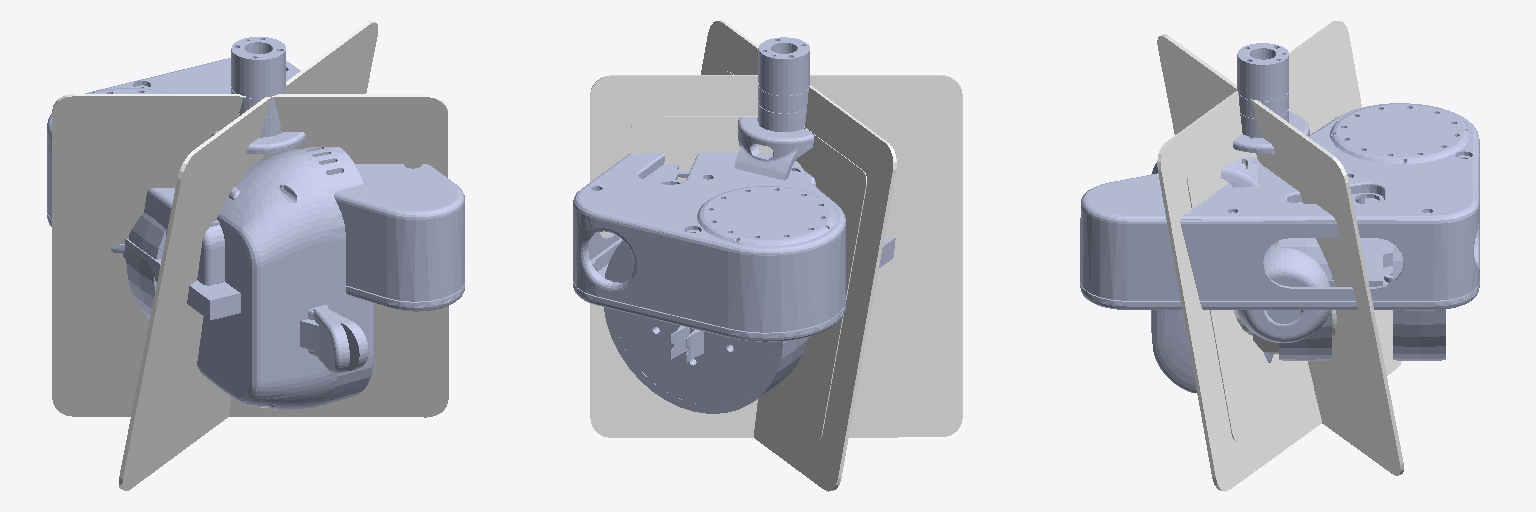
--- Render facts (derived) ---
3 views of the same robot in one strip: view 1: azimuth 30°, elevation 25°; view 2: azimuth 150°, elevation 25°; view 3: azimuth 270°, elevation 25° (orthographic).
Model stretch with 52 links and 51 joints (7 revolute, 2 continuous, 5 prismatic, 37 fixed), rooted at base_link, posed all joints at 0.
Visible links, largest first — view 1: link_aruco_fingertip_right, link_head_tilt, link_aruco_fingertip_left, link_head, link_head_pan, link_right_wheel, link_wrist_yaw_bottom, link_ground, link_gripper_finger_right, link_gripper_finger_left; view 2: link_aruco_fingertip_left, link_head, link_aruco_fingertip_right, link_left_wheel, link_head_pan; view 3: link_head, link_aruco_fingertip_right, link_aruco_fingertip_left, link_head_pan, link_head_nav_cam, link_head_tilt, link_left_wheel, link_right_wheel, link_ground, link_wrist_pitch.
Boxes of the visible links, x1,y1,x2,y2 form: link_aruco_fingertip_right: (52, 94, 448, 417); link_head_tilt: (197, 147, 374, 409); link_aruco_fingertip_left: (119, 21, 377, 490); link_head: (47, 58, 464, 311); link_head_pan: (211, 37, 305, 153); link_right_wheel: (126, 187, 175, 318); link_wrist_yaw_bottom: (144, 187, 239, 285); link_ground: (123, 239, 240, 319); link_gripper_finger_right: (314, 305, 349, 373); link_gripper_finger_left: (300, 307, 368, 370); link_aruco_fingertip_left: (590, 75, 962, 437); link_head: (573, 153, 845, 341); link_aruco_fingertip_right: (701, 20, 896, 491); link_left_wheel: (604, 241, 807, 413); link_head_pan: (734, 37, 813, 180); link_head: (1080, 103, 1479, 309); link_aruco_fingertip_right: (1157, 21, 1401, 491); link_aruco_fingertip_left: (1157, 34, 1403, 475); link_head_pan: (1233, 43, 1314, 154); link_head_nav_cam: (1237, 245, 1330, 342); link_head_tilt: (1151, 157, 1273, 392); link_left_wheel: (1393, 212, 1445, 360); link_right_wheel: (1279, 238, 1331, 360); link_ground: (1328, 198, 1382, 286); link_wrist_pitch: (1234, 241, 1336, 353).
Size in the robot's own frame: 173 by 193 by 196 metres.
Meshes: 37 distinct files referenced, 33 mesh visuals loaded (33 OBJ); not drawn: 4 (reference not matched to a file when rendering).

The robot description file, URDF, robot "stretch":
<?xml version="1.0" ?>
<!-- =================================================================================== -->
<!-- |    This document was autogenerated by xacro from ./stretch_urdf/SE3/xacro/stretch_description_SE3_eoa_wrist_dw3_tool_sg3.xacro | -->
<!-- |    EDITING THIS FILE BY HAND IS NOT RECOMMENDED                                 | -->
<!-- =================================================================================== -->
<robot name="stretch">
  <link name="base_link">
    <inertial>
      <origin rpy="0 0 0" xyz="-0.087526 -0.001626 0.081009"/>
      <mass value="17.384389"/>
      <inertia ixx="0.160002" ixy="0.006758" ixz="0.004621" iyy="0.138068" iyz="0.002208" izz="0.228992"/>
    </inertial>
    <visual>
      <origin rpy="0 0 0" xyz="0 0 0"/>
      <geometry>
        <mesh filename="./stretch_objs/base_link.obj"/>
      </geometry>
      <material name="">
        <color rgba="0.79216 0.81961 0.93333 1"/>
      </material>
    </visual>
    <collision>
      <origin rpy="0 0 0" xyz="0 0 0"/>
      <geometry>
        <mesh filename="./stretch_objs/base_link_collision.obj"/>
      </geometry>
    </collision>
  </link>
  <link name="link_ground">
    <inertial>
      <origin rpy="0 0 0" xyz="5.55111512312578E-17 3.12250225675825E-17 -0.05"/>
      <mass value="100"/>
      <inertia ixx="8.41666666666667" ixy="-7.74916461211739E-16" ixz="-4.48957242105862E-16" iyy="8.41666666666667" iyz="-4.0797041547857E-15" izz="16.6666666666667"/>
    </inertial>
    <visual>
      <origin rpy="0 0 0" xyz="0 0 0"/>
      <geometry>
        <mesh filename="./stretch_objs/link_ground_collision.obj"/>
      </geometry>
      <material name="">
        <color rgba="0.792156862745098 0.819607843137255 0.933333333333333 1"/>
      </material>
    </visual>
    <collision>
      <origin rpy="0 0 0" xyz="0 0 0"/>
      <geometry>
        <mesh filename="./stretch_objs/link_ground_collision.obj"/>
      </geometry>
    </collision>
  </link>
  <joint name="joint_ground" type="fixed">
    <origin rpy="0 0 -1.5708" xyz="-0.1 -0.3185 0"/>
    <parent link="base_link"/>
    <child link="link_ground"/>
    <axis xyz="0 0 0"/>
  </joint>
  <link name="link_right_wheel">
    <inertial>
      <origin rpy="0 0 0" xyz="0 0 0.02765"/>
      <mass value="0.20773"/>
      <inertia ixx="5.4E-05" ixy="0" ixz="0" iyy="5.4E-05" iyz="0" izz="5.1E-05"/>
    </inertial>
    <visual>
      <origin rpy="0 0 0" xyz="0 0 0"/>
      <geometry>
        <mesh filename="./stretch_objs/link_right_wheel.obj"/>
      </geometry>
      <material name="">
        <color rgba="0.79216 0.81961 0.93333 1"/>
      </material>
    </visual>
    <collision>
      <origin rpy="0 0 0" xyz="0 0 0"/>
      <geometry>
        <mesh filename="./stretch_objs/link_right_wheel_collision.obj"/>
      </geometry>
    </collision>
  </link>
  <joint name="joint_right_wheel" type="continuous">
    <origin rpy="-1.5708 1.2717E-16 4.8006E-17" xyz="0 -0.17035 0.0508"/>
    <parent link="base_link"/>
    <child link="link_right_wheel"/>
    <axis xyz="0 0 1"/>
    <dynamics damping="21.75" friction="10.48" spring_reference="0" spring_stiffness="0"/>
  </joint>
  <link name="link_left_wheel">
    <inertial>
      <origin rpy="0 0 0" xyz="0 0 -0.02765"/>
      <mass value="0.20773"/>
      <inertia ixx="5.4E-05" ixy="0" ixz="0" iyy="5.4E-05" iyz="0" izz="5.1E-05"/>
    </inertial>
    <visual>
      <origin rpy="0 0 0" xyz="0 0 0"/>
      <geometry>
        <mesh filename="./stretch_objs/link_left_wheel.obj"/>
      </geometry>
      <material name="">
        <color rgba="0.79216 0.81961 0.93333 1"/>
      </material>
    </visual>
    <collision>
      <origin rpy="0 0 0" xyz="0 0 0"/>
      <geometry>
        <mesh filename="./stretch_objs/link_left_wheel_collision.obj"/>
      </geometry>
    </collision>
  </link>
  <joint name="joint_left_wheel" type="continuous">
    <origin rpy="-1.5708 2.6317E-16 -8.2057E-19" xyz="0 0.17035 0.0508"/>
    <parent link="base_link"/>
    <child link="link_left_wheel"/>
    <axis xyz="0 0 1"/>
    <dynamics damping="21.75" friction="10.48" spring_reference="0" spring_stiffness="0"/>
  </joint>
  <link name="caster_link">
    <collision>
      <geometry>
        <sphere radius="0.032"/>
      </geometry>
      <origin rpy="0 0 0" xyz="0 0 0"/>
      <surface>
        <friction>
          <ode>
            <mu>0</mu>
            <mu2>0</mu2>
            <slip1>1.0</slip1>
            <slip2>1.0</slip2>
          </ode>
        </friction>
      </surface>
    </collision>
    <visual>
      <origin rpy="0 0 0" xyz="0 0 0"/>
      <geometry>
        <mesh filename="./stretch_objs/omni_wheel_m.obj"/>
      </geometry>
      <material name="">
        <color rgba="0.792156862745098 0.819607843137255 0.933333333333333 1"/>
      </material>
    </visual>
    <inertial>
      <mass value="0.01"/>
      <origin xyz="0 0 0"/>
      <inertia ixx="0.001" ixy="0" ixz="0" iyy="0.001" iyz="0" izz="0.001"/>
    </inertial>
  </link>
  <joint name="caster_joint" type="fixed">
    <parent link="base_link"/>
    <child link="caster_link"/>
    <origin rpy="-1.5707963267948966 0 0" xyz="-0.245 0.0 0.032"/>
    <axis xyz="0 0 1"/>
  </joint>
  <link name="link_mast">
    <inertial>
      <origin rpy="0 0 0" xyz="0.000337 0.722201 0.002652"/>
      <mass value="1.764017"/>
      <inertia ixx="0.291286" ixy="0.004149" ixz="-0.000174" iyy="0.001226" iyz="0.000354" izz="0.291429"/>
    </inertial>
    <visual>
      <origin rpy="0 0 0" xyz="0 0 0"/>
      <geometry>
        <mesh filename="./stretch_objs/link_mast.obj"/>
      </geometry>
      <material name="">
        <color rgba="0.79216 0.81961 0.93333 1"/>
      </material>
    </visual>
    <collision>
      <origin rpy="0 0 0" xyz="0 0 0"/>
      <geometry>
        <mesh filename="./stretch_objs/link_mast_collision.obj"/>
      </geometry>
    </collision>
  </link>
  <joint name="joint_mast" type="fixed">
    <origin rpy="1.5708 0 4.8006E-17" xyz="-0.067 0.135 0.0284"/>
    <parent link="base_link"/>
    <child link="link_mast"/>
    <axis xyz="0 0 0"/>
  </joint>
  <link name="link_lift">
    <inertial>
      <origin rpy="0 0 0" xyz="-0.020369 0.03438 0.02236"/>
      <mass value="1.987167"/>
      <inertia ixx="0.006518" ixy="-0.001539" ixz="0.000371" iyy="0.004464" iyz="0.000392" izz="0.008092"/>
    </inertial>
    <visual>
      <origin rpy="0 0 0" xyz="0 0 0"/>
      <geometry>
        <mesh filename="./stretch_objs/link_lift.obj"/>
      </geometry>
      <material name="">
        <color rgba="0.79216 0.81961 0.93333 1"/>
      </material>
    </visual>
    <collision>
      <origin rpy="0 0 0" xyz="0 0 0"/>
      <geometry>
        <mesh filename="./stretch_objs/link_lift_collision.obj"/>
      </geometry>
    </collision>
  </link>
  <joint name="joint_lift" type="prismatic">
    <origin rpy="-1.5708 1.5708 0" xyz="-0.037385 0.1666 0"/>
    <parent link="link_mast"/>
    <child link="link_lift"/>
    <axis xyz="0 0 1"/>
    <!-- for now: hand copied range_m: from lift: from ~/repos/stretch_fleet/stretch-re1-1001/stretch_re1_factory_params.yaml -->
    <!--<limit effort="100" lower="0.0" upper="1.095" velocity="1.0"/>-->
    <!-- copied value did not reach the top of mesh model with GUI sliders and RViz -->
    <limit effort="100" lower="0.0" upper="1.1" velocity="1.0"/>
  </joint>
  <link name="link_arm_l4">
    <inertial>
      <origin rpy="0 0 0" xyz="-0.000168 -0.000254 -0.125235"/>
      <mass value="0.235626"/>
      <inertia ixx="0.001518" ixy="-1E-06" ixz="3E-06" iyy="0.001519" iyz="3E-06" izz="0.000176"/>
    </inertial>
    <visual>
      <origin rpy="0 0 0" xyz="0 0 0"/>
      <geometry>
        <mesh filename="./stretch_objs/link_arm_l4.obj"/>
      </geometry>
      <material name="">
        <color rgba="0.79216 0.81961 0.93333 1"/>
      </material>
    </visual>
    <collision>
      <origin rpy="0 0 0" xyz="0 0 0"/>
      <geometry>
        <mesh filename="./stretch_objs/link_arm_l4_collision.obj"/>
      </geometry>
    </collision>
  </link>
  <joint name="joint_arm_l4" type="fixed">
    <origin rpy="1.5708 2.4721E-15 -1.5708" xyz="-0.2547 0 0"/>
    <parent link="link_lift"/>
    <child link="link_arm_l4"/>
    <axis xyz="0 0 0"/>
  </joint>
  <link name="link_arm_l3">
    <inertial>
      <origin rpy="0 0 0" xyz="-1E-06 -0.000146 -0.11908"/>
      <mass value="0.146817"/>
      <inertia ixx="0.001081" ixy="0" ixz="0" iyy="0.001081" iyz="-1E-06" izz="7.7E-05"/>
    </inertial>
    <visual>
      <origin rpy="0 0 0" xyz="0 0 0"/>
      <geometry>
        <mesh filename="./stretch_objs/link_arm_l3.obj"/>
      </geometry>
      <material name="">
        <color rgba="0.792156862745098 0.819607843137255 0.933333333333333 1"/>
      </material>
    </visual>
    <collision>
      <origin rpy="0 0 0" xyz="0 0 0"/>
      <geometry>
        <mesh filename="./stretch_objs/link_arm_l3_collision.obj"/>
      </geometry>
    </collision>
  </link>
  <joint name="joint_arm_l3" type="prismatic">
    <origin rpy="7.68831233799385E-30 2.36716479416092E-30 2.29652732251143E-17" xyz="0 0 0.013"/>
    <parent link="link_arm_l4"/>
    <child link="link_arm_l3"/>
    <axis xyz="0 0 1"/>
    <!-- 0.13 = 0.52/4-->
    <limit effort="100" lower="0.0" upper="0.13" velocity="1.0"/>
  </joint>
  <link name="link_arm_l2">
    <inertial>
      <origin rpy="0 0 0" xyz="0 -7.1E-05 -0.115635"/>
      <mass value="0.130565"/>
      <inertia ixx="0.000943" ixy="0" ixz="0" iyy="0.000943" iyz="0" izz="5.7E-05"/>
    </inertial>
    <visual>
      <origin rpy="0 0 0" xyz="0 0 0"/>
      <geometry>
        <mesh filename="./stretch_objs/link_arm_l2.obj"/>
      </geometry>
      <material name="">
        <color rgba="0.792156862745098 0.819607843137255 0.933333333333333 1"/>
      </material>
    </visual>
    <collision>
      <origin rpy="0 0 0" xyz="0 0 0"/>
      <geometry>
        <mesh filename="./stretch_objs/link_arm_l2_collision.obj"/>
      </geometry>
    </collision>
  </link>
  <joint name="joint_arm_l2" type="prismatic">
    <origin rpy="0 1.57655765344625E-30 -1.66533453693773E-16" xyz="0 0 0.013"/>
    <parent link="link_arm_l3"/>
    <child link="link_arm_l2"/>
    <axis xyz="0 0 1"/>
    <!-- 0.13 = 0.52/4-->
    <limit effort="100" lower="0.0" upper="0.13" velocity="1.0"/>
  </joint>
  <link name="link_arm_l1">
    <inertial>
      <origin rpy="0 0 0" xyz="-1E-06 -0.000121 -0.113457"/>
      <mass value="0.113658"/>
      <inertia ixx="0.0008" ixy="0" ixz="0" iyy="0.0008" iyz="0" izz="4E-05"/>
    </inertial>
    <visual>
      <origin rpy="0 0 0" xyz="0 0 0"/>
      <geometry>
        <mesh filename="./stretch_objs/link_arm_l1.obj"/>
      </geometry>
      <material name="">
        <color rgba="0.79216 0.81961 0.93333 1"/>
      </material>
    </visual>
    <collision>
      <origin rpy="0 0 0" xyz="0 0 0"/>
      <geometry>
        <mesh filename="./stretch_objs/link_arm_l1_collision.obj"/>
      </geometry>
    </collision>
  </link>
  <joint name="joint_arm_l1" type="prismatic">
    <origin rpy="-7.63746778746202E-30 -7.88860905221012E-31 1.11022302462516E-16" xyz="0 0 0.0129999999999981"/>
    <parent link="link_arm_l2"/>
    <child link="link_arm_l1"/>
    <axis xyz="0 0 1"/>
    <!-- 0.13 = 0.52/4-->
    <limit effort="100" lower="0.0" upper="0.13" velocity="1.0"/>
  </joint>
  <link name="link_arm_l0">
    <inertial>
      <origin rpy="0 0 0" xyz="0.033681 -0.000847 -0.031723"/>
      <mass value="0.427734"/>
      <inertia ixx="0.001689" ixy="-2.8E-05" ixz="0.000483" iyy="0.002107" iyz="-1.1E-05" izz="0.000571"/>
    </inertial>
    <visual>
      <origin rpy="0 0 0" xyz="0 0 0"/>
      <geometry>
        <mesh filename="./stretch_objs/link_arm_l0.obj"/>
      </geometry>
      <material name="">
        <color rgba="0.792156862745098 0.819607843137255 0.933333333333333 1"/>
      </material>
    </visual>
    <collision>
      <origin rpy="0 0 0" xyz="0 0 0"/>
      <geometry>
        <mesh filename="./stretch_objs/link_arm_l0_collision.obj"/>
      </geometry>
    </collision>
  </link>
  <joint name="joint_arm_l0" type="prismatic">
    <origin rpy="7.63746778746202E-30 -3.80121128864402E-15 2.62707547767438E-15" xyz="0 0 -0.0137499999991968"/>
    <parent link="link_arm_l1"/>
    <child link="link_arm_l0"/>
    <axis xyz="0 0 1"/>
    <!-- 0.13 = 0.52/4-->
    <limit effort="100" lower="0.0" upper="0.13" velocity="1.0"/>
  </joint>
  <link name="link_wrist_yaw">
    <inertial>
      <origin rpy="0 0 0" xyz="0 -3.9E-05 -0.016495"/>
      <mass value="0.054422"/>
      <inertia ixx="9E-06" ixy="0" ixz="0" iyy="9E-06" iyz="0" izz="7E-06"/>
    </inertial>
    <visual>
      <origin rpy="0 0 0" xyz="0 0 0"/>
      <geometry>
        <mesh filename="./stretch_objs/link_wrist_yaw.obj"/>
      </geometry>
      <material name="">
        <color rgba="0.898039215686275 0.917647058823529 0.929411764705882 1"/>
      </material>
    </visual>
    <collision>
      <origin rpy="0 0 0" xyz="0 0 0"/>
      <geometry>
        <mesh filename="./stretch_objs/link_wrist_yaw_collision.obj"/>
      </geometry>
    </collision>
  </link>
  <joint name="joint_wrist_yaw" type="revolute">
    <origin rpy="-1.5707963267949 0 3.14159265358978" xyz="0.0830000000000654 -0.0307500000000129 0"/>
    <parent link="link_arm_l0"/>
    <child link="link_wrist_yaw"/>
    <axis xyz="0 0 -1"/>
    <!--
      stowed to front ~225 deg: 3.15159 x 1.25 = 3.9395
      using 4.0
      stowed to back ~100 deg:  100 / 180 x 3.14159 = 1.7453
      using -1.75
    -->
    <limit effort="100" lower="-1.75" upper="4.0" velocity="1.0"/>
  </joint>
  <link name="link_head">
    <inertial>
      <origin rpy="0 0 0" xyz="0.047462 0.04451 0.016376"/>
      <mass value="0.681871"/>
      <inertia ixx="0.001023" ixy="0.000641" ixz="6.6E-05" iyy="0.002097" iyz="6.5E-05" izz="0.00281"/>
    </inertial>
    <visual>
      <origin rpy="0 0 0" xyz="0 0 0"/>
      <geometry>
        <mesh filename="./stretch_objs/link_head.obj"/>
      </geometry>
      <material name="">
        <color rgba="0.792156862745098 0.819607843137255 0.933333333333333 1"/>
      </material>
    </visual>
    <collision>
      <origin rpy="0 0 0" xyz="0 0 0"/>
      <geometry>
        <mesh filename="./stretch_objs/link_head_collision.obj"/>
      </geometry>
    </collision>
  </link>
  <joint name="joint_head" type="fixed">
    <origin rpy="1.5707963267949 -1.5707963267949 3.1416" xyz="0 1.33 0"/>
    <parent link="link_mast"/>
    <child link="link_head"/>
    <axis xyz="0 0 0"/>
  </joint>
  <link name="link_head_pan">
    <inertial>
      <origin rpy="0 0 0" xyz="-0.000422 0.013934 -0.0161"/>
      <mass value="0.062462"/>
      <inertia ixx="4.1E-05" ixy="-1E-06" ixz="1E-06" iyy="3.2E-05" iyz="-1.5E-05" izz="2.2E-05"/>
    </inertial>
    <visual>
      <origin rpy="0 0 0" xyz="0 0 0"/>
      <geometry>
        <mesh filename="./stretch_objs/link_head_pan.obj"/>
      </geometry>
      <material name="">
        <color rgba="0.792156862745098 0.819607843137255 0.933333333333333 1"/>
      </material>
    </visual>
    <collision>
      <origin rpy="0 0 0" xyz="0 0 0"/>
      <geometry>
        <mesh filename="./stretch_objs/link_head_pan_collision.obj"/>
      </geometry>
    </collision>
  </link>
  <joint name="joint_head_pan" type="revolute">
    <origin rpy="0 0 1.5707963267949" xyz="0.135 0.0731000000000001 -0.00319621125547975"/>
    <parent link="link_head"/>
    <child link="link_head_pan"/>
    <axis xyz="0 0 1"/>
    <!-- unconstrained range for now -->
    <limit effort="100" lower="-3.9" upper="1.5" velocity="1.0"/>
  </joint>
  <link name="link_head_tilt">
    <inertial>
      <origin rpy="0 0 0" xyz="0.003907 -0.02418 0.030154"/>
      <mass value="0.283548"/>
      <inertia ixx="0.000316" ixy="-6E-06" ixz="1E-06" iyy="0.000143" iyz="-2E-06" izz="0.00031"/>
    </inertial>
    <visual>
      <origin rpy="0 0 0" xyz="0 0 0"/>
      <geometry>
        <mesh filename="./stretch_objs/link_head_tilt.obj"/>
      </geometry>
      <material name="">
        <color rgba="0.792156862745098 0.819607843137255 0.933333333333333 1"/>
      </material>
    </visual>
    <collision>
      <origin rpy="0 0 0" xyz="0 0 0"/>
      <geometry>
        <mesh filename="./stretch_objs/link_head_tilt_collision.obj"/>
      </geometry>
    </collision>
  </link>
  <joint name="joint_head_tilt" type="revolute">
    <origin rpy="1.5707963267949 3.36459255518345E-15 -8.42914893687103E-17" xyz="-0.00130000001785262 0.0277624999926072 -0.0533107920897029"/>
    <parent link="link_head_pan"/>
    <child link="link_head_tilt"/>
    <axis xyz="0 0 1"/>
    <!-- unconstrained range for now -->
    <limit effort="100" lower="-1.53" upper="0.79" velocity="1.0"/>
  </joint>
  <link name="link_aruco_right_base">
    <inertial>
      <origin rpy="0 0 0" xyz="1.3878E-17 0 -0.000125"/>
      <mass value="3.59999999990368E-06"/>
      <inertia ixx="0" ixy="0" ixz="0" iyy="0" iyz="0" izz="0"/>
    </inertial>
    <visual>
      <origin rpy="0 0 0" xyz="0 0 0"/>
      <geometry>
        <mesh filename="./stretch_objs/link_aruco_right_base.obj"/>
      </geometry>
      <material name="">
        <color rgba="0.792156862745098 0.819607843137255 0.933333333333333 1"/>
      </material>
    </visual>
    <collision>
      <origin rpy="0 0 0" xyz="0 0 0"/>
      <geometry>
        <mesh filename="./stretch_objs/link_aruco_right_base.obj"/>
      </geometry>
    </collision>
  </link>
  <joint name="joint_aruco_right_base" type="fixed">
    <origin rpy="0 0 -1.5707963267949" xyz="-0.0015028 -0.1304972 0.1597482"/>
    <parent link="base_link"/>
    <child link="link_aruco_right_base"/>
    <axis xyz="0 0 0"/>
  </joint>
  <link name="link_aruco_left_base">
    <inertial>
      <origin rpy="0 0 0" xyz="2.7756E-17 0 -0.000125"/>
      <mass value="3.59999999990368E-06"/>
      <inertia ixx="0" ixy="0" ixz="0" iyy="0" iyz="0" izz="0"/>
    </inertial>
    <visual>
      <origin rpy="0 0 0" xyz="0 0 0"/>
      <geometry>
        <mesh filename="./stretch_objs/link_aruco_left_base.obj"/>
      </geometry>
      <material name="">
        <color rgba="0.792156862745098 0.819607843137255 0.933333333333333 1"/>
      </material>
    </visual>
    <collision>
      <origin rpy="0 0 0" xyz="0 0 0"/>
      <geometry>
        <mesh filename="./stretch_objs/link_aruco_left_base.obj"/>
      </geometry>
    </collision>
  </link>
  <joint name="joint_aruco_left_base" type="fixed">
    <origin rpy="0 0 -1.5707963267949" xyz="-0.00500000000000014 0.1304972 0.1597482"/>
    <parent link="base_link"/>
    <child link="link_aruco_left_base"/>
    <axis xyz="0 0 0"/>
  </joint>
  <link name="link_aruco_shoulder">
    <inertial>
      <origin rpy="0 0 0" xyz="-2.77555756156289E-17 2.56739074444567E-16 -0.000125000000000042"/>
      <mass value="0"/>
      <inertia ixx="0" ixy="0" ixz="0" iyy="0" iyz="0" izz="0"/>
    </inertial>
    <visual>
      <origin rpy="0 0 0" xyz="0 0 0"/>
      <geometry>
        <mesh filename="./stretch_objs/link_aruco_shoulder.obj"/>
      </geometry>
      <material name="">
        <color rgba="0.792156862745098 0.819607843137255 0.933333333333333 1"/>
      </material>
    </visual>
    <collision>
      <origin rpy="0 0 0" xyz="0 0 0"/>
      <geometry>
        <mesh filename="./stretch_objs/link_aruco_shoulder.obj"/>
      </geometry>
    </collision>
  </link>
  <joint name="joint_aruco_shoulder" type="fixed">
    <origin rpy="-1.53998860117704E-29 3.55962409571165E-15 0.0" xyz="-0.0133768876375287 0.0558540528812078 0.0861368272417975"/>
    <parent link="link_lift"/>
    <child link="link_aruco_shoulder"/>
    <axis xyz="0 0 0"/>
  </joint>
  <link name="link_aruco_top_wrist">
    <inertial>
      <origin rpy="0 0 0" xyz="-1.3531E-15 -3.4972E-15 -0.000125"/>
      <mass value="0"/>
      <inertia ixx="0" ixy="0" ixz="0" iyy="0" iyz="0" izz="0"/>
    </inertial>
    <visual>
      <origin rpy="0 0 0" xyz="0 0 0"/>
      <geometry>
        <mesh filename="./stretch_objs/link_aruco_top_wrist.obj"/>
      </geometry>
      <material name="">
        <color rgba="0.792156862745098 0.819607843137255 0.933333333333333 1"/>
      </material>
    </visual>
    <collision>
      <origin rpy="0 0 0" xyz="0 0 0"/>
      <geometry>
        <mesh filename="./stretch_objs/link_aruco_top_wrist.obj"/>
      </geometry>
    </collision>
  </link>
  <joint name="joint_aruco_top_wrist" type="fixed">
    <origin rpy="1.5707963267949 -8.03728587323464E-15 3.14159265358979" xyz="0.0472500000000019 0.0292850000000015 0"/>
    <parent link="link_arm_l0"/>
    <child link="link_aruco_top_wrist"/>
    <axis xyz="0 0 0"/>
  </joint>
  <link name="link_aruco_inner_wrist">
    <inertial>
      <origin rpy="0 0 0" xyz="8.32667268468867E-17 1.77635683940025E-15 -0.000125000000000264"/>
      <mass value="0"/>
      <inertia ixx="0" ixy="0" ixz="0" iyy="0" iyz="0" izz="0"/>
    </inertial>
    <visual>
      <origin rpy="0 0 0" xyz="0 0 0"/>
      <geometry>
        <mesh filename="./stretch_objs/link_aruco_inner_wrist.obj"/>
      </geometry>
      <material name="">
        <color rgba="0.792156862745098 0.819607843137255 0.933333333333333 1"/>
      </material>
    </visual>
    <collision>
      <origin rpy="0 0 0" xyz="0 0 0"/>
      <geometry>
        <mesh filename="./stretch_objs/link_aruco_inner_wrist.obj"/>
      </geometry>
    </collision>
  </link>
  <joint name="joint_aruco_inner_wrist" type="fixed">
    <origin rpy="3.14159265358979 4.23377442363088E-14 3.14159265358979" xyz="0.0472499999999947 -0.0119000000000034 -0.0272499999991938"/>
    <parent link="link_arm_l0"/>
    <child link="link_aruco_inner_wrist"/>
    <axis xyz="0 0 0"/>
  </joint>
  <material name="aluminum">
    <color rgba="0.5 0.5 0.5 1"/>
  </material>
  <material name="plastic">
    <color rgba="0.1 0.1 0.1 1"/>
  </material>
  <!-- camera body, with origin at bottom screw mount -->
  <joint name="camera_joint" type="fixed">
    <origin rpy="0.0 0.0 0.0" xyz="0.03 -0.0122 0.0182"/>
    <parent link="link_head_tilt"/>
    <child link="camera_bottom_screw_frame"/>
  </joint>
  <link name="camera_bottom_screw_frame"/>
  <joint name="camera_link_joint" type="fixed">
    <origin rpy="0 0 0" xyz="0.010600000000000002 0.0175 0.0125"/>
    <parent link="camera_bottom_screw_frame"/>
    <child link="camera_link"/>
  </joint>
  <link name="camera_link">
    <visual>
      <!-- the mesh origin is at front plate in between the two infrared camera axes -->
      <origin rpy="1.5707963267948966 0 1.5707963267948966" xyz="0.0043 -0.0175 0"/>
      <geometry>
        <mesh filename="./stretch_objs/d435.obj"/>
      </geometry>
    </visual>
    <collision>
      <origin rpy="0 0 0" xyz="0 -0.0175 0"/>
      <geometry>
        <box size="0.02505 0.09 0.025"/>
      </geometry>
    </collision>
    <inertial>
      <!-- The following are not reliable values, and should not be used for modeling -->
      <mass value="0.072"/>
      <origin xyz="0 0 0"/>
      <inertia ixx="0.003881243" ixy="0.0" ixz="0.0" iyy="0.000498940" iyz="0.0" izz="0.003879257"/>
    </inertial>
  </link>
  <!-- camera depth joints and links -->
  <joint name="camera_depth_joint" type="fixed">
    <origin rpy="0 0 0" xyz="0 0 0"/>
    <parent link="camera_link"/>
    <child link="camera_depth_frame"/>
  </joint>
  <link name="camera_depth_frame"/>
  <joint name="camera_depth_optical_joint" type="fixed">
    <origin rpy="-1.5707963267948966 0 -1.5707963267948966" xyz="0 0 0"/>
    <parent link="camera_depth_frame"/>
    <child link="camera_depth_optical_frame"/>
  </joint>
  <link name="camera_depth_optical_frame"/>
  <!-- camera left IR joints and links -->
  <joint name="camera_infra1_joint" type="fixed">
    <origin rpy="0 0 0" xyz="0 0.0 0"/>
    <parent link="camera_link"/>
    <child link="camera_infra1_frame"/>
  </joint>
  <link name="camera_infra1_frame"/>
  <joint name="camera_infra1_optical_joint" type="fixed">
    <origin rpy="-1.5707963267948966 0 -1.5707963267948966" xyz="0 0 0"/>
    <parent link="camera_infra1_frame"/>
    <child link="camera_infra1_optical_frame"/>
  </joint>
  <link name="camera_infra1_optical_frame"/>
  <!-- camera right IR joints and links -->
  <joint name="camera_infra2_joint" type="fixed">
    <origin rpy="0 0 0" xyz="0 -0.05 0"/>
    <parent link="camera_link"/>
    <child link="camera_infra2_frame"/>
  </joint>
  <link name="camera_infra2_frame"/>
  <joint name="camera_infra2_optical_joint" type="fixed">
    <origin rpy="-1.5707963267948966 0 -1.5707963267948966" xyz="0 0 0"/>
    <parent link="camera_infra2_frame"/>
    <child link="camera_infra2_optical_frame"/>
  </joint>
  <link name="camera_infra2_optical_frame"/>
  <!-- camera color joints and links -->
  <joint name="camera_color_joint" type="fixed">
    <origin rpy="0 0 0" xyz="0 0.015 0"/>
    <parent link="camera_link"/>
    <child link="camera_color_frame"/>
  </joint>
  <link name="camera_color_frame"/>
  <joint name="camera_color_optical_joint" type="fixed">
    <origin rpy="-1.5707963267948966 0 -1.5707963267948966" xyz="0 0 0"/>
    <parent link="camera_color_frame"/>
    <child link="camera_color_optical_frame"/>
  </joint>
  <link name="camera_color_optical_frame"/>
  <link name="camera_accel_frame"/>
  <link name="camera_accel_optical_frame"/>
  <link name="camera_gyro_frame"/>
  <link name="camera_gyro_optical_frame"/>
  <joint name="camera_accel_joint" type="fixed">
    <origin rpy="0 0 0" xyz="-0.01174 -0.00552 0.0051"/>
    <parent link="camera_link"/>
    <child link="camera_accel_frame"/>
  </joint>
  <joint name="camera_accel_optical_joint" type="fixed">
    <origin rpy="-1.5707963267948966 0 -1.5707963267948966" xyz="0 0 0"/>
    <parent link="camera_accel_frame"/>
    <child link="camera_accel_optical_frame"/>
  </joint>
  <joint name="camera_gyro_joint" type="fixed">
    <origin rpy="0 0 0" xyz="-0.01174 -0.00552 0.0051"/>
    <parent link="camera_link"/>
    <child link="camera_gyro_frame"/>
  </joint>
  <joint name="camera_gyro_optical_joint" type="fixed">
    <origin rpy="-1.5707963267948966 0 -1.5707963267948966" xyz="0 0 0"/>
    <parent link="camera_gyro_frame"/>
    <child link="camera_gyro_optical_frame"/>
  </joint>
  <link name="laser">
    <inertial>
      <origin rpy="0 0 0" xyz="0.011979 -0.000523 -0.01998"/>
      <mass value="0.216007"/>
      <inertia ixx="9.5E-05" ixy="2E-06" ixz="-1.9E-05" iyy="0.000184" iyz="-1E-06" izz="0.000216"/>
    </inertial>
    <visual>
      <origin rpy="0 0 0" xyz="0 0 0"/>
      <geometry>
        <mesh filename="./stretch_objs/laser.obj"/>
      </geometry>
      <material name="">
        <color rgba="0.250980392156863 0.250980392156863 0.250980392156863 1"/>
      </material>
    </visual>
    <collision>
      <origin rpy="0 0 0" xyz="0 0 0"/>
      <geometry>
        <mesh filename="./stretch_objs/laser_collision.obj"/>
      </geometry>
    </collision>
  </link>
  <joint name="joint_laser" type="fixed">
    <origin rpy="0 0 3.1416" xyz="0.004 0 0.1664"/>
    <parent link="base_link"/>
    <child link="laser"/>
    <axis xyz="0 0 0"/>
  </joint>
  <link name="base_imu">
    <inertial>
      <origin rpy="0 0 0" xyz="0.00300349280517617 0.00149777182047641 -0.00193103885249443"/>
      <mass value="0.00092"/>
      <inertia ixx="3E-08" ixy="0" ixz="0" iyy="5E-08" iyz="0" izz="8E-08"/>
    </inertial>
    <visual>
      <origin rpy="0 0 0" xyz="0 0 0"/>
      <geometry>
        <mesh filename="./stretch_objs/base_imu.obj"/>
      </geometry>
      <material name="">
        <color rgba="0 0.772549019607843 0.207843137254902 1"/>
      </material>
    </visual>
    <collision>
      <origin rpy="0 0 0" xyz="0 0 0"/>
      <geometry>
        <mesh filename="./stretch_objs/base_imu.obj"/>
      </geometry>
    </collision>
  </link>
  <joint name="joint_base_imu" type="fixed">
    <origin rpy="-3.1416 0 -1.5708" xyz="-0.12838 0.0031592 0.1474"/>
    <parent link="base_link"/>
    <child link="base_imu"/>
    <axis xyz="0 0 0"/>
  </joint>
  <link name="respeaker_base">
    <inertial>
      <origin rpy="0 0 0" xyz="-0.001594 -0.001282 -0.008098"/>
      <mass value="0.025175"/>
      <inertia ixx="1E-05" ixy="2E-06" ixz="1E-06" iyy="1.2E-05" iyz="0" izz="1.5E-05"/>
    </inertial>
    <visual>
      <origin rpy="0 0 0" xyz="0 0 0"/>
      <geometry>
        <mesh filename="./stretch_objs/respeaker_base.obj"/>
      </geometry>
      <material name="">
        <color rgba="0.79216 0.81961 0.93333 1"/>
      </material>
    </visual>
    <collision>
      <origin rpy="0 0 0" xyz="0 0 0"/>
      <geometry>
        <mesh filename="./stretch_objs/respeaker_base.obj"/>
      </geometry>
    </collision>
  </link>
  <joint name="joint_respeaker" type="fixed">
    <origin rpy="-1.5707963267949 -0.698131700797725 4.93295812652799E-16" xyz="0 1.37236408874452 0.00303065898329655"/>
    <parent link="link_mast"/>
    <child link="respeaker_base"/>
    <axis xyz="0 0 0"/>
  </joint>
  <link name="link_wrist_yaw_bottom">
    <inertial>
      <origin rpy="0 0 0" xyz="-0.0165399153795968 -0.0446328107020906 -0.0281087384763343"/>
      <mass value="0.144548635554334"/>
      <inertia ixx="4.56525957614798E-05" ixy="-1.08217417869179E-06" ixz="-1.44384040297111E-08" iyy="7.22875259104698E-05" iyz="3.40820143544021E-09" izz="8.76544308203217E-05"/>
    </inertial>
    <visual>
      <origin rpy="0 0 0" xyz="0 0 0"/>
      <geometry>
        <mesh filename="./stretch_objs/link_DW3_wrist_yaw_bottom.obj"/>
      </geometry>
      <material name="">
        <color rgba="0.792156862745098 0.819607843137255 0.933333333333333 1"/>
      </material>
    </visual>
    <collision>
      <origin rpy="0 0 0" xyz="0 0 0"/>
      <geometry>
        <mesh filename="./stretch_objs/link_DW3_wrist_yaw_bottom_collision.obj"/>
      </geometry>
    </collision>
  </link>
  <joint name="joint_wrist_yaw_bottom" type="fixed">
    <origin rpy="-3.14159265358979 0 -1.5707963267949" xyz="0 0 0"/>
    <parent link="link_wrist_yaw"/>
    <child link="link_wrist_yaw_bottom"/>
    <axis xyz="0 0 0"/>
  </joint>
  <link name="link_wrist_pitch">
    <inertial>
      <origin rpy="0 0 0" xyz="-0.000711479645697954 -0.0147442681465562 0.0195140764319514"/>
      <mass value="0.116590512374845"/>
      <inertia ixx="5.76204624498191E-05" ixy="-7.78647509857216E-07" ixz="-2.86646997376633E-08" iyy="3.5844353951621E-05" iyz="1.06445058968725E-06" izz="6.36355321976534E-05"/>
    </inertial>
    <visual>
      <origin rpy="0 0 0" xyz="0 0 0"/>
      <geometry>
        <mesh filename="./stretch_objs/link_DW3_wrist_pitch.obj"/>
      </geometry>
      <material name="">
        <color rgba="1 1 1 1"/>
      </material>
    </visual>
    <collision>
      <origin rpy="0 0 0" xyz="0 0 0"/>
      <geometry>
        <mesh filename="./stretch_objs/link_DW3_wrist_pitch_collision.obj"/>
      </geometry>
    </collision>
  </link>
  <joint name="joint_wrist_pitch" type="revolute">
    <origin rpy="1.5708 0 3.1416" xyz="0 -0.019455 -0.0305"/>
    <parent link="link_wrist_yaw_bottom"/>
    <child link="link_wrist_pitch"/>
    <axis xyz="0 0 -1"/>
    <limit effort="100" lower="-1.57" upper="0.56" velocity="1.0"/>
  </joint>
  <link name="link_wrist_roll">
    <inertial>
      <origin rpy="0 0 0" xyz="0.000282866582415386 0.000557472767112266 0.0196635450480892"/>
      <mass value="0.0221916689638078"/>
      <inertia ixx="2.20608319376175E-06" ixy="3.01742816614342E-09" ixz="-1.83537060988685E-08" iyy="2.91436292743443E-06" iyz="-4.5509705441618E-08" izz="4.83731409646016E-06"/>
    </inertial>
    <visual>
      <origin rpy="0 0 0" xyz="0 0 0"/>
      <geometry>
        <mesh filename="./stretch_objs/link_DW3_wrist_roll.obj"/>
      </geometry>
      <material name="">
        <color rgba="0.898039215686275 0.917647058823529 0.929411764705882 1"/>
      </material>
    </visual>
    <collision>
      <origin rpy="0 0 0" xyz="0 0 0"/>
      <geometry>
        <mesh filename="./stretch_objs/link_DW3_wrist_roll_collision.obj"/>
      </geometry>
    </collision>
  </link>
  <joint name="joint_wrist_roll" type="revolute">
    <origin rpy="3.1416 1.5708 0" xyz="-0.018859 -0.024 0.01955"/>
    <parent link="link_wrist_pitch"/>
    <child link="link_wrist_roll"/>
    <axis xyz="0 0 1"/>
    <limit effort="100" lower="-3.14" upper="3.14" velocity="1.0"/>
  </joint>
  <link name="link_wrist_quick_connect">
</link>
  <joint name="joint_wrist_quick_connect" type="fixed">
    <origin rpy="1.5708 0 -1.5708" xyz="0 0 0.0085"/>
    <parent link="link_wrist_roll"/>
    <child link="link_wrist_quick_connect"/>
    <axis xyz="0 0 0"/>
  </joint>
  <link name="link_gripper_s3_body">
    <inertial>
      <origin rpy="0 0 0" xyz="0.000296364207693828 0.00742489472460528 0.0440194148825503"/>
      <mass value="0.288995995074102"/>
      <inertia ixx="0.000482695285602815" ixy="-3.02029982967392E-06" ixz="6.73858128561175E-07" iyy="0.000213430693267808" iyz="-1.95797907844847E-05" izz="0.000377638305434195"/>
    </inertial>
    <visual>
      <origin rpy="0 0 0" xyz="0 0 0"/>
      <geometry>
        <mesh filename="./stretch_objs/link_SG3_gripper_body.obj"/>
      </geometry>
      <material name="">
        <color rgba="0.792156862745098 0.819607843137255 0.933333333333333 1"/>
      </material>
    </visual>
    <collision>
      <origin rpy="0 0 0" xyz="0 0 0"/>
      <geometry>
        <mesh filename="./stretch_objs/link_SG3_gripper_body_collision.obj"/>
      </geometry>
    </collision>
  </link>
  <joint name="joint_gripper_s3_body" type="fixed">
    <origin rpy="0 0 -3.14159265358975" xyz="0 0 0.0209999999993159"/>
    <parent link="link_wrist_roll"/>
    <child link="link_gripper_s3_body"/>
    <axis xyz="0 0 0"/>
  </joint>
  <link name="link_gripper_finger_right">
    <inertial>
      <origin rpy="0 0 0" xyz="-0.107294725536829 -0.00404012121215261 7.86433341395387E-05"/>
      <mass value="0.0483698337858479"/>
      <inertia ixx="3.0603544296956E-06" ixy="-8.13967524445937E-07" ixz="-6.04746355450675E-08" iyy="6.12306677697621E-05" iyz="-1.81592899124487E-08" izz="6.24670188075471E-05"/>
    </inertial>
    <visual>
      <origin rpy="0 0 0" xyz="0 0 0"/>
      <geometry>
        <mesh filename="./stretch_objs/link_SG3_gripper_finger_right.obj"/>
      </geometry>
      <material name="">
        <color rgba="0.792156862745098 0.819607843137255 0.933333333333333 1"/>
      </material>
    </visual>
    <collision>
      <origin rpy="0 0 0" xyz="0 0 0"/>
      <geometry>
        <mesh filename="./stretch_objs/link_SG3_gripper_finger_right_collision.obj"/>
      </geometry>
    </collision>
  </link>
  <joint name="joint_gripper_finger_right" type="revolute">
    <origin rpy="-1.57079632679513 1.48789318732515 3.14159265358956" xyz="-0.0246929393014972 0 0.0371909405167257"/>
    <parent link="link_gripper_s3_body"/>
    <child link="link_gripper_finger_right"/>
    <axis xyz="0 0 1"/>
    <limit effort="0" lower="-0.0000000001" upper="0.0000000001" velocity="0"/>
  </joint>
  <link name="link_gripper_fingertip_right">
    <inertial>
      <origin rpy="0 0 0" xyz="2.8647736627363E-08 -9.47712436305537E-09 0.00812577933915037"/>
      <mass value="0.00382162062525088"/>
      <inertia ixx="4.13411802118931E-07" ixy="3.48038363075757E-16" ixz="-5.14102948448996E-13" iyy="4.13411799815932E-07" iyz="1.76223254858882E-13" izz="7.08442016110623E-07"/>
    </inertial>
    <visual>
      <origin rpy="0 0 0" xyz="0 0 0"/>
      <geometry>
        <mesh filename="./stretch_objs/link_SG3_gripper_fingertip_right.obj"/>
      </geometry>
      <material name="">
        <color rgba="0.250980392156863 0.250980392156863 0.250980392156863 1"/>
      </material>
    </visual>
    <collision>
      <origin rpy="0 0 0" xyz="0 0 0"/>
      <geometry>
        <mesh filename="./stretch_objs/link_SG3_gripper_fingertip_right_collision.obj"/>
      </geometry>
    </collision>
  </link>
  <joint name="joint_gripper_fingertip_right" type="fixed">
    <origin rpy="-1.5707963267949 0 0.261799387799172" xyz="-0.177784508377902 -0.0106721811879468 0"/>
    <parent link="link_gripper_finger_right"/>
    <child link="link_gripper_fingertip_right"/>
    <axis xyz="0 0 0"/>
  </joint>
  <link name="link_aruco_fingertip_right">
    <inertial>
      <origin rpy="0 0 0" xyz="0 1.11022302462516E-16 -0.000133556861164369"/>
      <mass value="7.44175884388862E-05"/>
      <inertia ixx="1.89627721063282E-09" ixy="-7.92118400196357E-24" ixz="-5.31083688038992E-24" iyy="1.89627721063282E-09" iyz="3.1794754795007E-24" izz="3.79185381384273E-09"/>
    </inertial>
    <visual>
      <origin rpy="0 0 0" xyz="0 0 0"/>
      <geometry>
        <mesh filename="./stretch_objs/link_SG3_aruco_fingertip_right.obj"/>
      </geometry>
      <material name="">
        <color rgba="1 1 1 1"/>
      </material>
    </visual>
    <collision>
      <origin rpy="0 0 0" xyz="0 0 0"/>
      <geometry>
        <mesh filename="./stretch_objs/link_SG3_aruco_fingertip_right.obj"/>
      </geometry>
    </collision>
  </link>
  <joint name="joint_aruco_fingertip_right" type="fixed">
    <origin rpy="-1.76278254451426 0 -0.959931088596862" xyz="-0.143934974292953 -0.00436381846065068 -8.58640479174944E-05"/>
    <parent link="link_gripper_finger_right"/>
    <child link="link_aruco_fingertip_right"/>
    <axis xyz="0 0 0"/>
  </joint>
  <link name="link_gripper_finger_left">
    <inertial>
      <origin rpy="0 0 0" xyz="0.107294715994863 -0.00404011929289155 7.86443400617731E-05"/>
      <mass value="0.0483698266031602"/>
      <inertia ixx="3.06035472000871E-06" ixy="8.13968102368407E-07" ixz="6.04787443258659E-08" iyy="6.12306675643124E-05" iyz="-1.81596824851191E-08" izz="6.24670194741309E-05"/>
    </inertial>
    <visual>
      <origin rpy="0 0 0" xyz="0 0 0"/>
      <geometry>
        <mesh filename="./stretch_objs/link_SG3_gripper_finger_left.obj"/>
      </geometry>
      <material name="">
        <color rgba="0.792156862745098 0.819607843137255 0.933333333333333 1"/>
      </material>
    </visual>
    <collision>
      <origin rpy="0 0 0" xyz="0 0 0"/>
      <geometry>
        <mesh filename="./stretch_objs/link_SG3_gripper_finger_left_collision.obj"/>
      </geometry>
    </collision>
  </link>
  <joint name="joint_gripper_finger_left" type="revolute">
    <origin rpy="-1.57079632679523 -1.48789318734672 -3.14159265358946" xyz="0.0245029393015013 0 0.0371909405167127"/>
    <parent link="link_gripper_s3_body"/>
    <child link="link_gripper_finger_left"/>
    <axis xyz="0 0 -1"/>
    <limit effort="0" lower="-0.0000000001" upper="0.0000000001" velocity="0"/>
  </joint>
  <link name="link_gripper_fingertip_left">
    <inertial>
      <origin rpy="0 0 0" xyz="-3.08483497635237E-08 -1.26956833934599E-09 0.0081257795407928"/>
      <mass value="0.00382162054362131"/>
      <inertia ixx="4.13411804417319E-07" ixy="2.60118266065524E-16" ixz="5.82035131405725E-13" iyy="4.13411805017951E-07" iyz="2.22196449834679E-14" izz="7.08442015318697E-07"/>
    </inertial>
    <visual>
      <origin rpy="0 0 0" xyz="0 0 0"/>
      <geometry>
        <mesh filename="./stretch_objs/link_SG3_gripper_fingertip_left.obj"/>
      </geometry>
      <material name="">
        <color rgba="0.250980392156863 0.250980392156863 0.250980392156863 1"/>
      </material>
    </visual>
    <collision>
      <origin rpy="0 0 0" xyz="0 0 0"/>
      <geometry>
        <mesh filename="./stretch_objs/link_SG3_gripper_fingertip_left_collision.obj"/>
      </geometry>
    </collision>
  </link>
  <joint name="joint_gripper_fingertip_left" type="fixed">
    <origin rpy="1.57079632679491 0 2.87979326579064" xyz="0.177784508377884 -0.0106721811879429 0"/>
    <parent link="link_gripper_finger_left"/>
    <child link="link_gripper_fingertip_left"/>
    <axis xyz="0 0 0"/>
  </joint>
  <link name="link_aruco_fingertip_left">
    <inertial>
      <origin rpy="0 0 0" xyz="1.66533453693773E-16 1.66533453693773E-16 -0.000133556861164119"/>
      <mass value="7.44175884388882E-05"/>
      <inertia ixx="1.89627721063294E-09" ixy="-5.82454725440012E-23" ixz="6.72490089805544E-24" iyy="1.89627721063281E-09" iyz="1.93870456067116E-24" izz="3.79185381384285E-09"/>
    </inertial>
    <visual>
      <origin rpy="0 0 0" xyz="0 0 0"/>
      <geometry>
        <mesh filename="./stretch_objs/link_SG3_aruco_fingertip_left.obj"/>
      </geometry>
      <material name="">
        <color rgba="1 1 1 1"/>
      </material>
    </visual>
    <collision>
      <origin rpy="0 0 0" xyz="0 0 0"/>
      <geometry>
        <mesh filename="./stretch_objs/link_SG3_aruco_fingertip_left.obj"/>
      </geometry>
    </collision>
  </link>
  <joint name="joint_aruco_fingertip_left" type="fixed">
    <origin rpy="-1.76278254451424 0 0.959931088596885" xyz="0.143934974292929 -0.00436381846064454 -8.58640479230455E-05"/>
    <parent link="link_gripper_finger_left"/>
    <child link="link_aruco_fingertip_left"/>
    <axis xyz="0 0 0"/>
  </joint>
  <link name="link_aruco_d405">
    <inertial>
      <origin rpy="0 0 0" xyz="-2.94593661126497E-06 6.87711987940043E-06 0.000123133477759885"/>
      <mass value="0.000393662237156561"/>
      <inertia ixx="5.28754465024473E-08" ixy="3.78334824255939E-13" ixz="1.41329092888338E-13" iyy="5.28872681828417E-08" iyz="-3.29924653052859E-13" izz="1.05758729446112E-07"/>
    </inertial>
    <visual>
      <origin rpy="0 0 0" xyz="0 0 0"/>
      <geometry>
        <mesh filename="./stretch_objs/link_SG3_aruco_d405.obj"/>
      </geometry>
      <material name="">
        <color rgba="1 1 1 1"/>
      </material>
    </visual>
    <collision>
      <origin rpy="0 0 0" xyz="0 0 0"/>
      <geometry>
        <mesh filename="./stretch_objs/link_SG3_aruco_d405.obj"/>
      </geometry>
    </collision>
  </link>
  <joint name="joint_aruco_d405" type="fixed">
    <origin rpy="2.96705999342568 -0.000305721573415565 3.1398588194619" xyz="0 0.0671264013906604 0.0297716109784749"/>
    <parent link="link_gripper_s3_body"/>
    <child link="link_aruco_d405"/>
    <axis xyz="0 0 0"/>
  </joint>
  <link name="link_grasp_center">
  </link>
  <joint name="joint_grasp_center" type="fixed">
    <origin rpy="-1.5707963267949 -1.5707963267948 0" xyz="0 0 0.23"/>
    <parent link="link_gripper_s3_body"/>
    <child link="link_grasp_center"/>
  </joint>
  <link name="link_head_nav_cam">
    <inertial>
      <origin rpy="0 0 0" xyz="-0.000242485173502102 -6.9219046065605E-05 -0.0139988115298306"/>
      <mass value="0.028346169831483"/>
      <inertia ixx="4.03820640553667E-06" ixy="-4.29737468694014E-25" ixz="-3.42669828325649E-22" iyy="4.03772087509678E-06" iyz="-2.25687766186513E-21" izz="5.37818026653469E-06"/>
    </inertial>
    <visual>
      <origin rpy="0 0 0" xyz="0 0 0"/>
      <geometry>
        <mesh filename="./stretch_objs/link_SE3_head_nav_cam.obj"/>
      </geometry>
      <material name="">
        <color rgba="0.792156862745098 0.819607843137255 0.933333333333333 1"/>
      </material>
    </visual>
    <collision>
      <origin rpy="0 0 0" xyz="0 0 0"/>
      <geometry>
        <mesh filename="./stretch_objs/link_SE3_head_nav_cam_collision.obj"/>
      </geometry>
    </collision>
  </link>
  <joint name="joint_head_nav_cam" type="fixed">
    <origin rpy="0 1.5707963267949 0" xyz="0.0402000000000069 -0.0411729746231231 -0.0245785717313561"/>
    <parent link="link_head_tilt"/>
    <child link="link_head_nav_cam"/>
    <axis xyz="0 0 0"/>
  </joint>
</robot>
